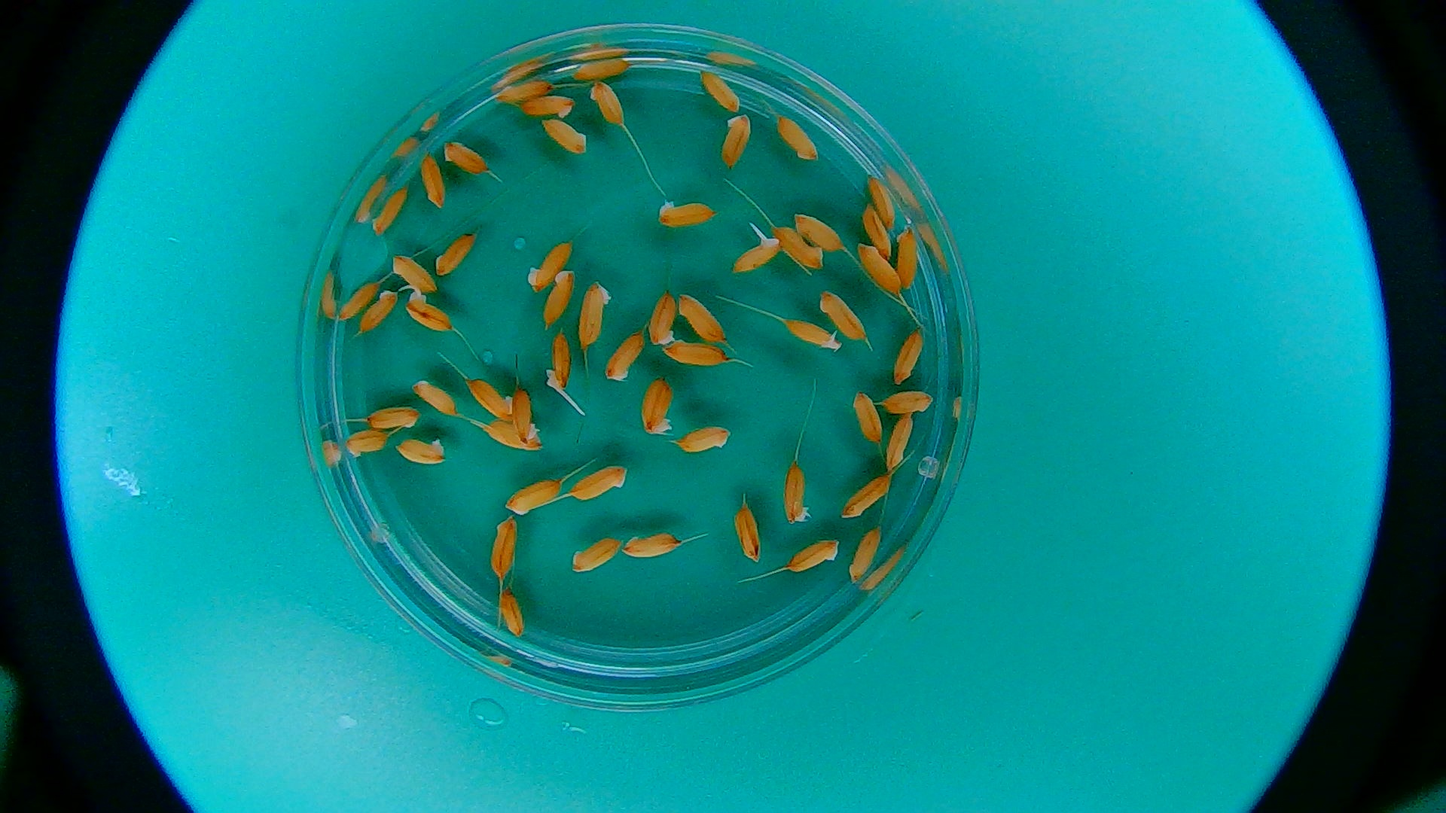no: (435, 136, 493, 178), (676, 294, 725, 342), (819, 291, 865, 340), (325, 279, 381, 319), (467, 372, 514, 419), (542, 117, 592, 161), (407, 374, 458, 417), (839, 475, 890, 518), (606, 327, 646, 381), (529, 240, 571, 291), (578, 282, 609, 350), (504, 479, 562, 514), (776, 114, 820, 160), (573, 465, 628, 501), (508, 382, 541, 442), (540, 268, 573, 327), (847, 525, 880, 583), (433, 233, 477, 276), (776, 225, 822, 266), (857, 246, 897, 293), (642, 377, 674, 435), (782, 461, 810, 527), (420, 153, 451, 212), (570, 537, 620, 573), (721, 114, 752, 172), (665, 341, 729, 369), (795, 212, 842, 250), (371, 188, 408, 236), (489, 516, 517, 579), (698, 70, 741, 111), (893, 327, 923, 384), (587, 80, 624, 126), (789, 539, 839, 573), (885, 412, 914, 469), (623, 531, 682, 559), (392, 252, 435, 290), (656, 200, 716, 227), (359, 291, 399, 331), (734, 504, 761, 562), (867, 172, 895, 227), (852, 388, 880, 443), (484, 425, 541, 452), (677, 425, 732, 452), (646, 290, 674, 343), (396, 437, 446, 466), (521, 95, 576, 120), (865, 209, 893, 257), (881, 390, 934, 415), (500, 587, 526, 637), (897, 227, 918, 286), (345, 430, 389, 457), (368, 406, 419, 428), (495, 81, 554, 100), (572, 59, 634, 76)
yes: (403, 292, 454, 331), (548, 326, 576, 394), (732, 236, 779, 273), (785, 322, 837, 353)
